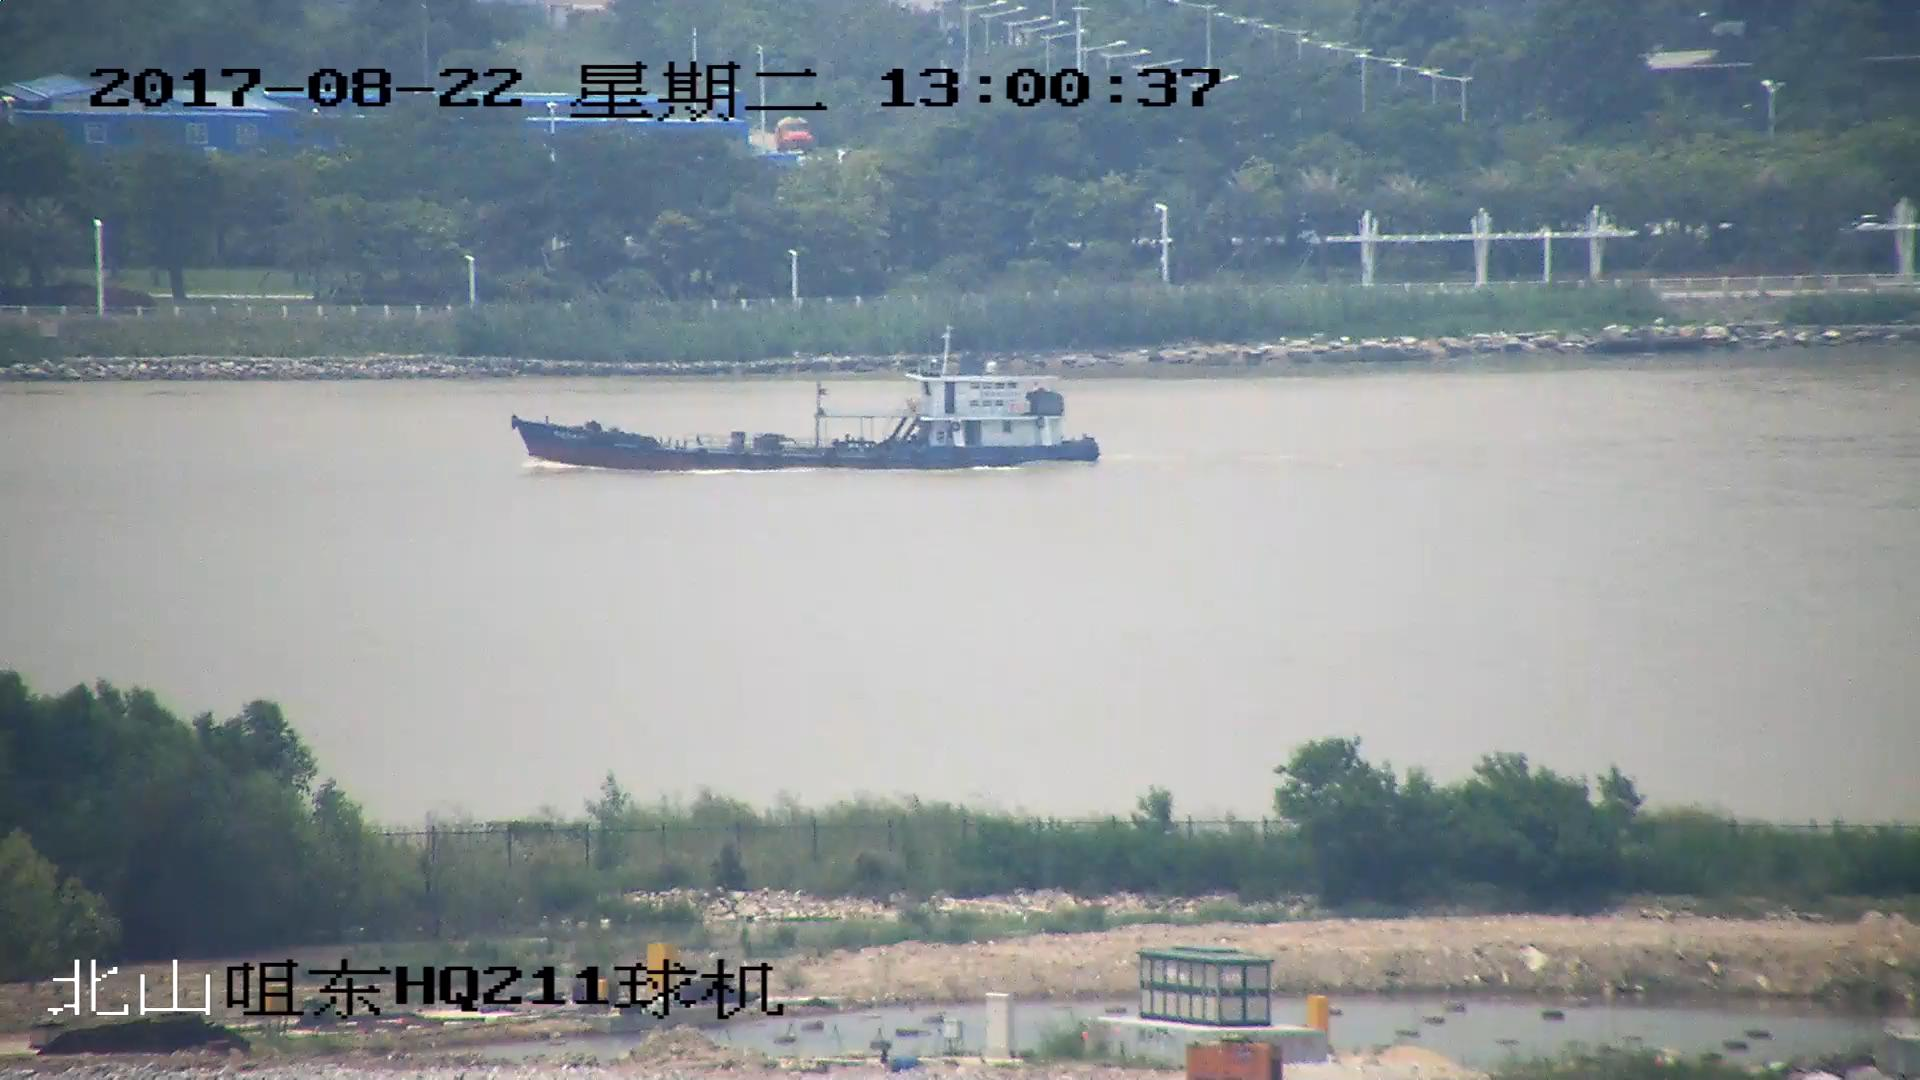fishing boat: (516, 331, 1099, 472)
